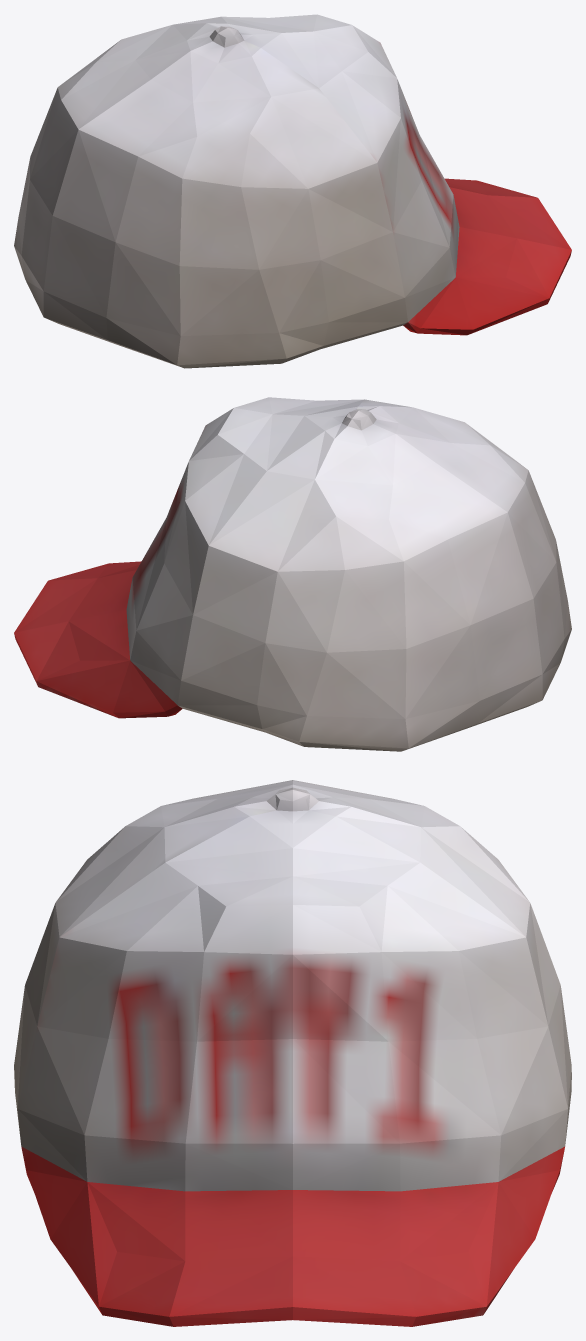
The model's file is LAUNCH DAY CAP.fbx.
3 views of the same model, one above another, from view 1: azimuth 30°, elevation 25°; view 2: azimuth 150°, elevation 25°; view 3: azimuth 270°, elevation 25° (orthographic). The views are drawn at different scales.
Visible parts, largest first — view 1: LAUNCH_DAY_CAP; view 2: LAUNCH_DAY_CAP; view 3: LAUNCH_DAY_CAP.
Part boxes in pixels (left/top/right/bottom): LAUNCH_DAY_CAP: left=14, top=14, right=571, bottom=368; LAUNCH_DAY_CAP: left=14, top=397, right=571, bottom=751; LAUNCH_DAY_CAP: left=14, top=780, right=571, bottom=1326.
Size of the model in its own units: 33.51 by 18.33 by 25.14.
